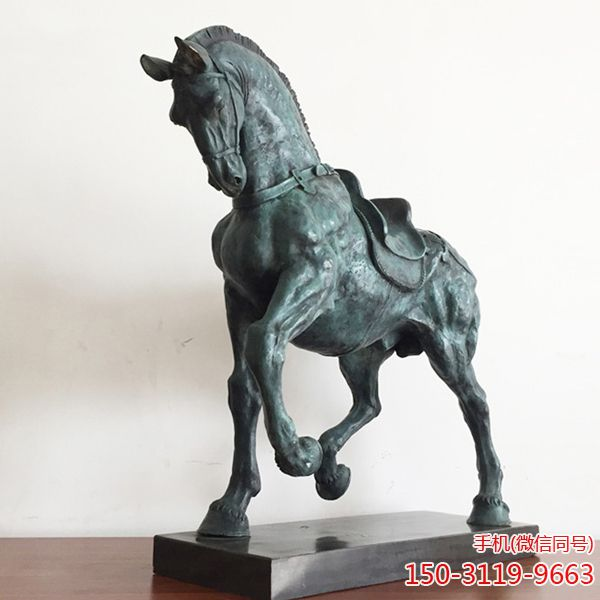background: (139, 26, 526, 547)
